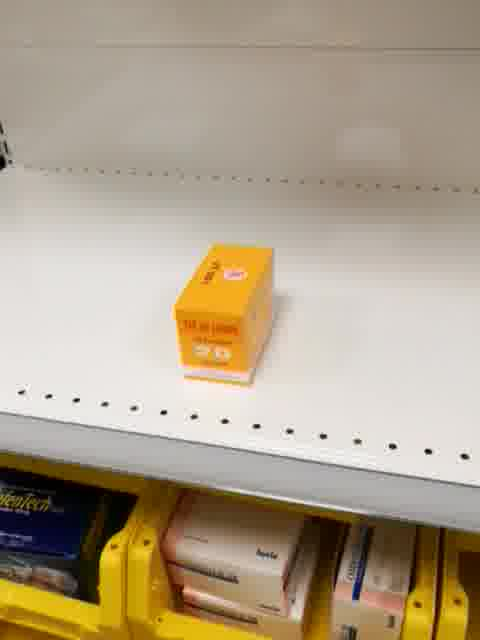jasminetea: (173, 243, 277, 387)
